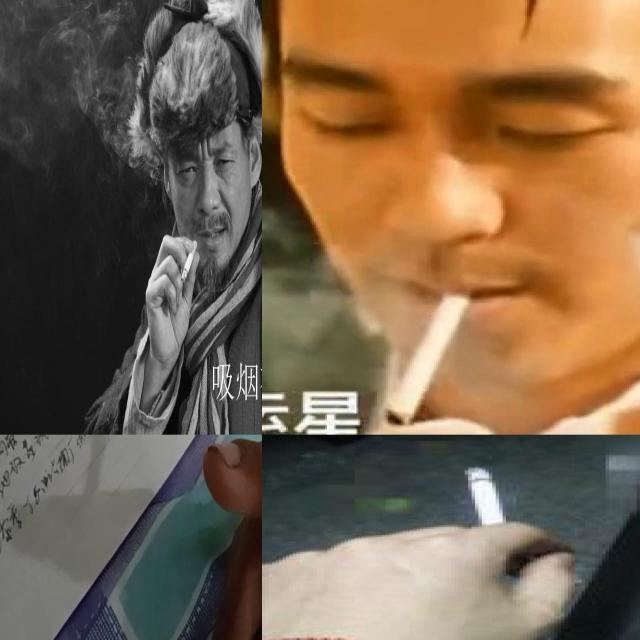smoke: (382, 289, 470, 426), (464, 466, 516, 544), (181, 240, 198, 284)
